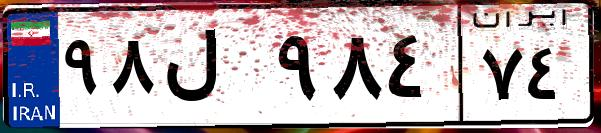4: (385, 28, 445, 110), (525, 38, 570, 115)
7: (475, 38, 525, 113)
8: (330, 28, 385, 110), (110, 28, 158, 98)
9: (270, 28, 330, 110), (57, 26, 110, 100)
ل: (158, 20, 270, 120)
